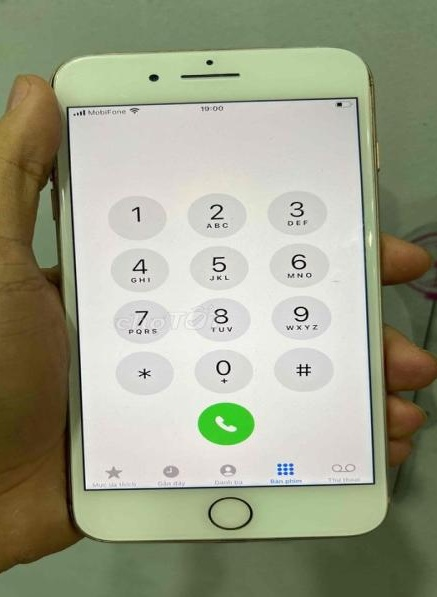physical_damage: (351, 56, 380, 97), (47, 52, 65, 90)
